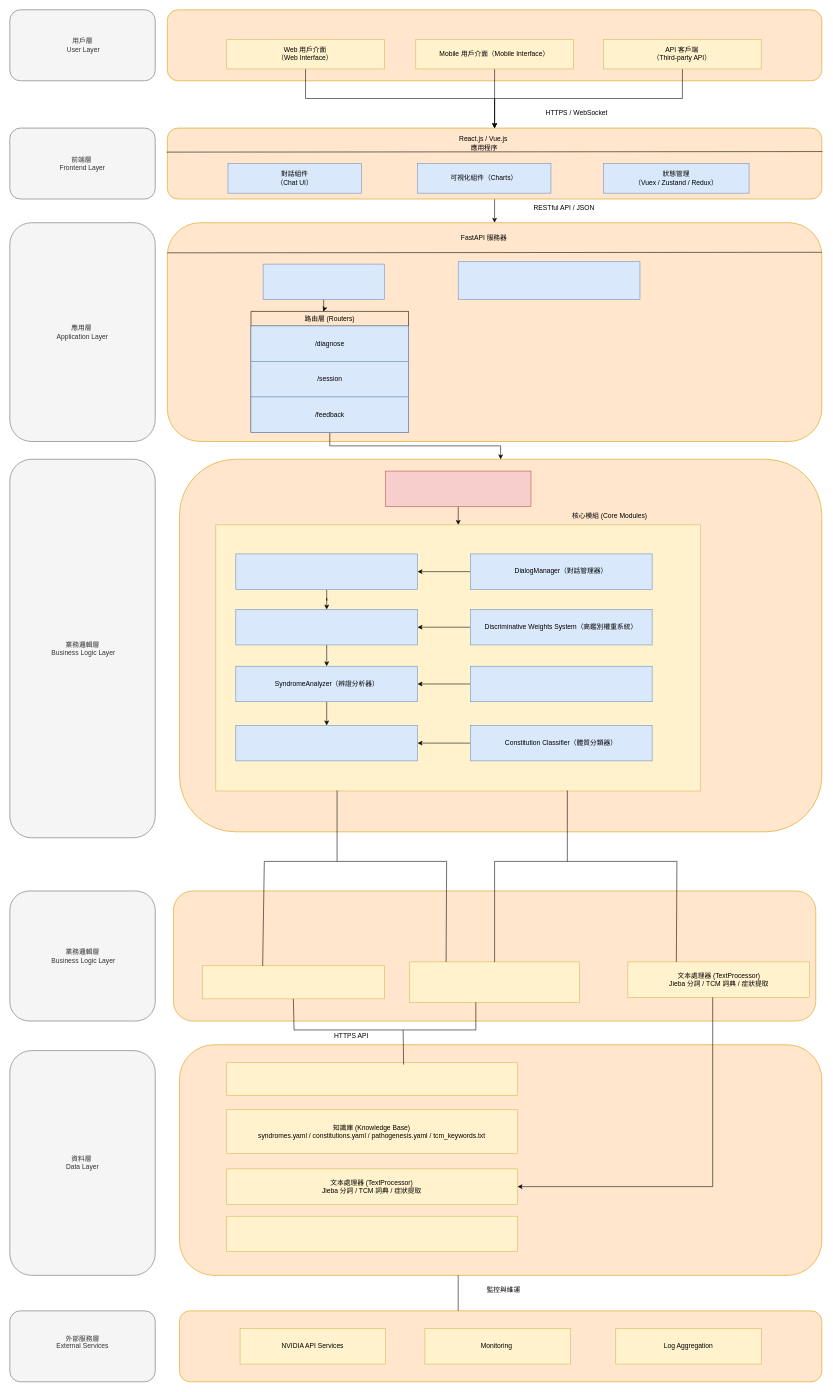
Some shapes in this 833 by 1392 pixel diagram are drawn without their labels. The box of each missing label's shape, as (x1, y1, x2, y2) in pixels:
API Gateway (/api/scbr): (263, 264, 384, 300)
ConvergenceMetrics（收斂計算器）: (235, 725, 418, 761)
DynamicRetrieval（動態檢索優化器）: (235, 609, 418, 645)
LLM 服務 (LLMClient) LLaMA-3.3 / 70B / NVIDIA NIM: (202, 965, 384, 999)
Pathogenesis Engine（病機引擎）: (470, 666, 652, 702)
S-CBR 核心引擎（SCBREngine）: (385, 471, 531, 507)
SpiralEngine（螺旋推理引擎）: (235, 553, 418, 589)
Weaviate 向量資料庫 TCMCase / PulsePJ / RPCase Collections: (226, 1062, 518, 1096)
嵌入模型 (EmbedClient) NV-Embed / 1024-dim / NVIDIA API: (409, 961, 579, 1003)
日誌系統 (Logging System) Application / Query / Performance: (226, 1216, 518, 1252)
認證授權 (JWT): (458, 261, 640, 300)
